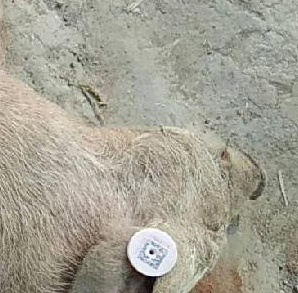text: (121, 220, 186, 284)
